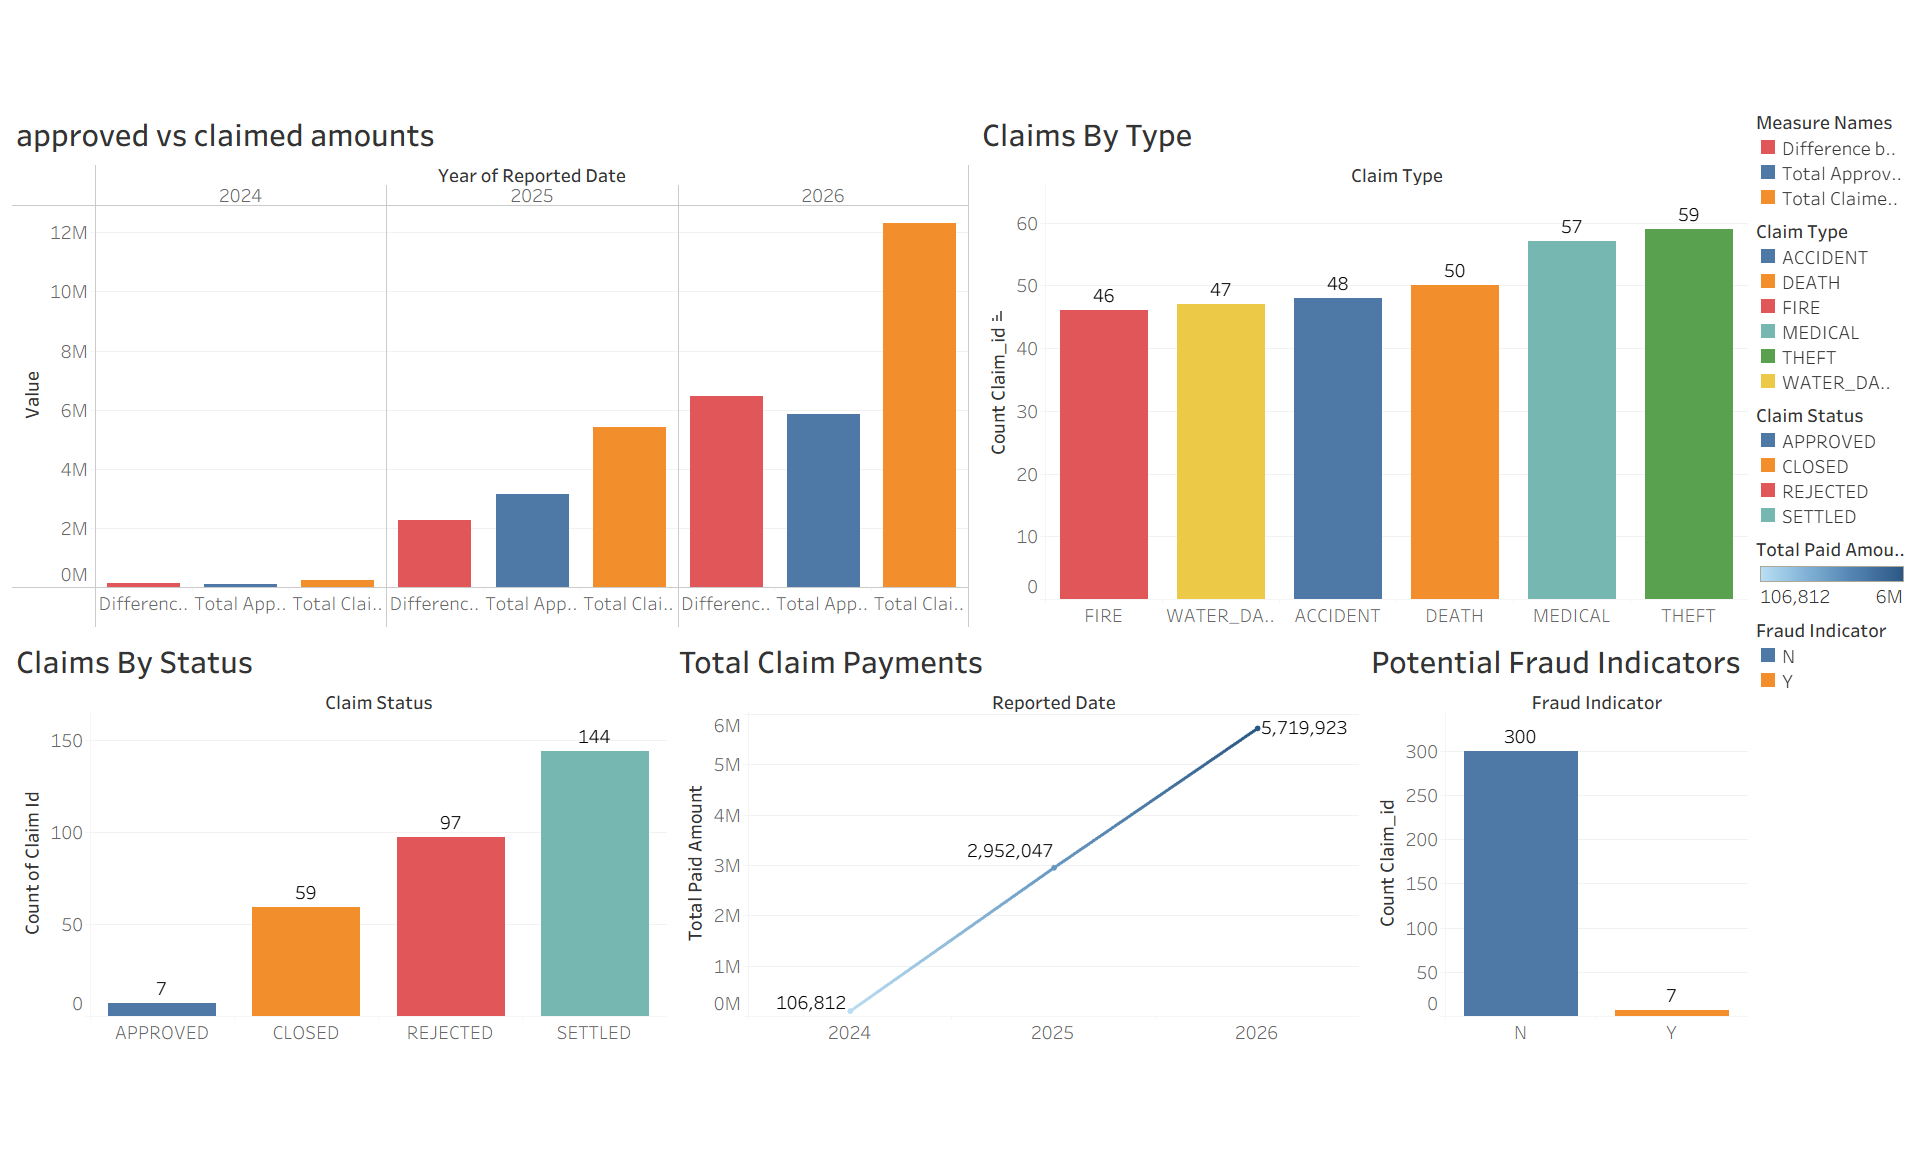

Layout of this report page (visuals, bound fields, positions):
{"tool":"tableau","page":{"name":"Claims","canvas":[1000,1000],"units":"permille","ordinal":0},"visuals":[{"type":"worksheet","title":"Sheet 16","mark":"Bar","cols":["reported_date"],"box":[5,8.6,492.9,548.6]},{"type":"worksheet","title":"Sheet 10","mark":"Automatic","rows":["Calculation_2296639521333248"],"cols":["claim_type"],"box":[497.9,8.6,397.3,548.6]},{"type":"legend","title":"Sheet 16","param":"[federated.1cz9o98084osx31d3vete1fj7oek].[:Measure Names]","box":[895.3,8.6,99.8,117.7]},{"type":"legend","title":"Sheet 10","param":"[federated.1cz9o98084osx31d3vete1fj7oek].[none:claim_type:nk]","box":[895.3,126.4,99.8,198.7]},{"type":"legend","title":"Sheet 9","param":"[federated.1cz9o98084osx31d3vete1fj7oek].[none:claim_status:nk]","box":[895.3,325.1,99.8,144.7]},{"type":"legend","title":"Sheet 17","param":"[federated.1cz9o98084osx31d3vete1fj7oek].[sum:total_paid_amount:qk]","box":[895.3,469.8,99.8,87.5]},{"type":"worksheet","title":"Sheet 9","mark":"Automatic","rows":["claim_id"],"cols":["claim_status"],"box":[5,557.2,338.6,434.2]},{"type":"worksheet","title":"Sheet 17","mark":"Line","rows":["total_paid_amount"],"cols":["reported_date"],"box":[343.6,557.2,353,434.2]},{"type":"worksheet","title":"Sheet 13","mark":"Automatic","rows":["Calculation_2296639521333248"],"cols":["fraud_indicator"],"box":[696.6,557.2,198.7,434.2]},{"type":"legend","title":"Sheet 13","param":"[federated.1cz9o98084osx31d3vete1fj7oek].[none:fraud_indicator:nk]","box":[895.3,557.2,99.8,90.7]}]}

Visuals, with their boxes on the dashboard's canvas, which has no fixed pixel size, in thousandths of its width and height (x1, y1, x2, y2). These are canvas units, not pixel positions in the 1920x1154 screenshot, which may show the page scaled, cropped or inside an application window:
"Sheet 16" worksheet (Bar marks): crop(5, 9, 498, 557)
"Sheet 10" worksheet: crop(498, 9, 895, 557)
"Sheet 16" legend: crop(895, 9, 995, 126)
"Sheet 10" legend: crop(895, 126, 995, 325)
"Sheet 9" legend: crop(895, 325, 995, 470)
"Sheet 17" legend: crop(895, 470, 995, 557)
"Sheet 9" worksheet: crop(5, 557, 344, 991)
"Sheet 17" worksheet (Line marks): crop(344, 557, 697, 991)
"Sheet 13" worksheet: crop(697, 557, 895, 991)
"Sheet 13" legend: crop(895, 557, 995, 648)
